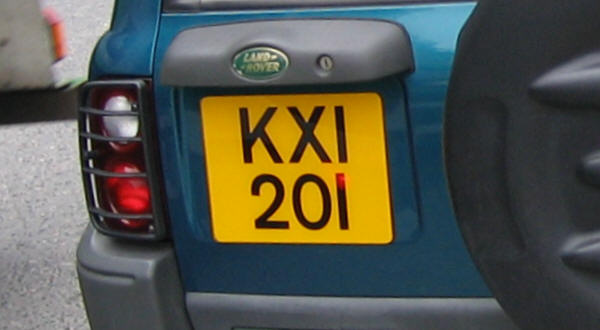license_plate: (197, 91, 395, 245)
